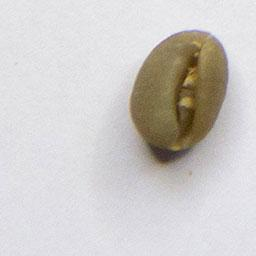peaberry: (125, 25, 233, 156)
